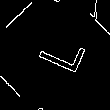L_NW: (25, 30, 85, 80)
